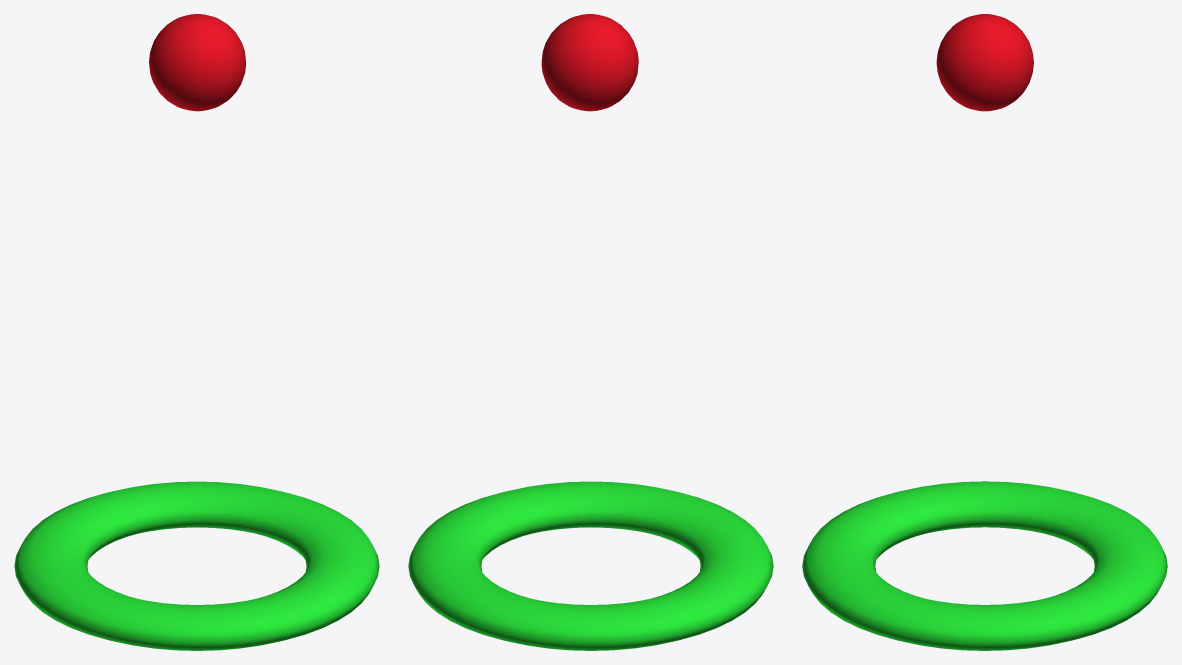
File: ring.dae
3 renders of one model, left to right at view 1: azimuth 30°, elevation 25°; view 2: azimuth 150°, elevation 25°; view 3: azimuth 270°, elevation 25°, orthographic.
Visible parts, largest first — view 1: Torus.001, Sphere; view 2: Torus.001, Sphere; view 3: Torus.001, Sphere.
Part boxes in pixels (bbox=[...]): Torus.001: bbox=[14, 481, 379, 650]; Sphere: bbox=[149, 14, 245, 111]; Torus.001: bbox=[408, 481, 773, 650]; Sphere: bbox=[541, 14, 638, 111]; Torus.001: bbox=[802, 481, 1167, 650]; Sphere: bbox=[936, 14, 1033, 111].
Size of the model in its own units: 3.75 by 6.4 by 3.75.
